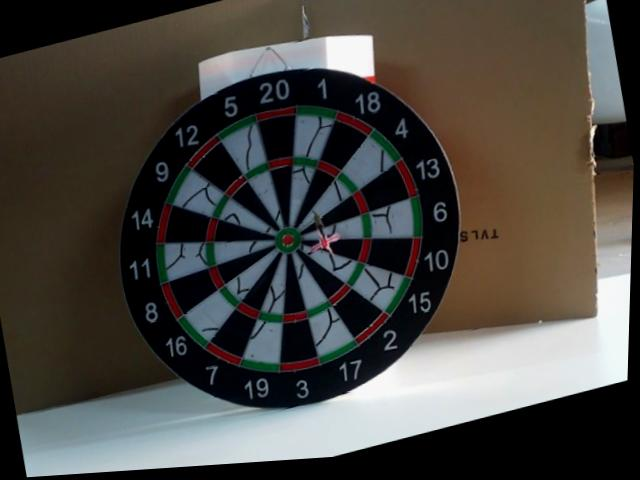single_4: (302, 180, 350, 226)
